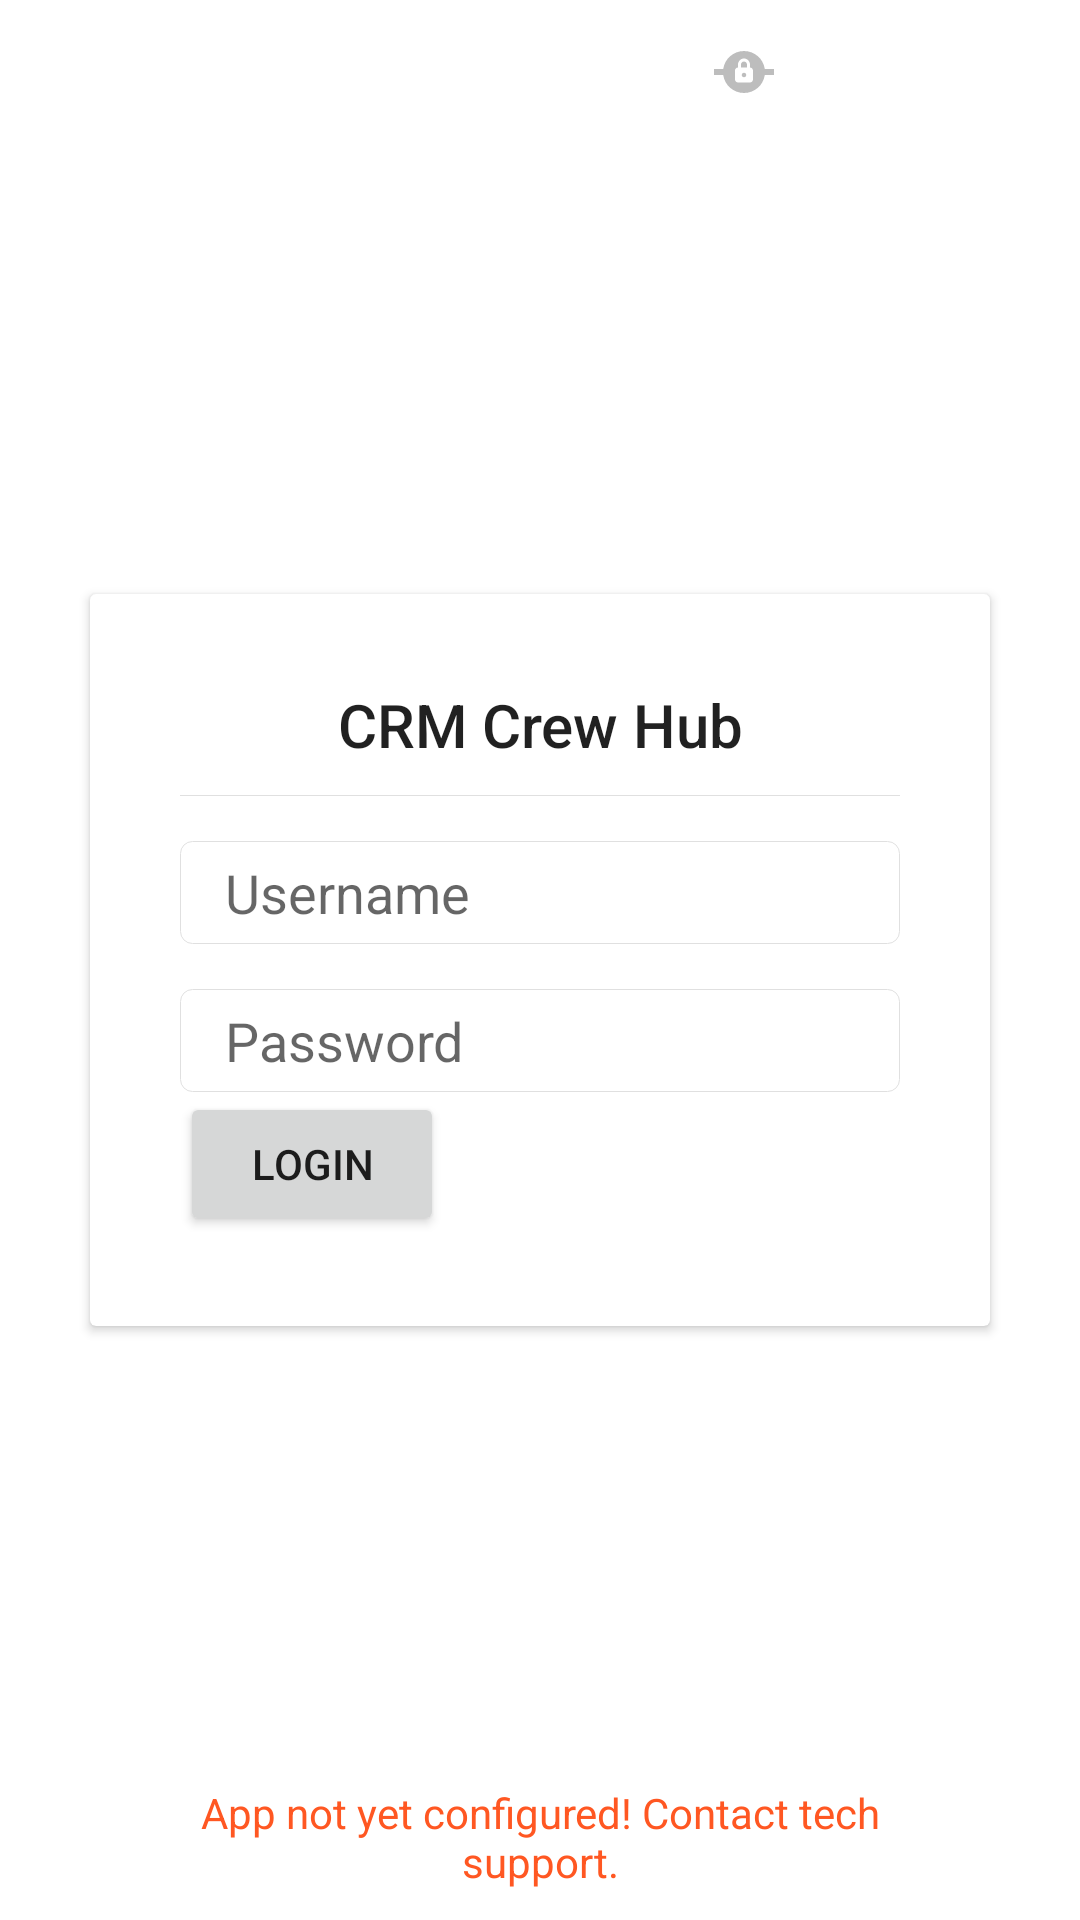

Locate icon controls on the screen. Image size 1080px x 1920px, boxes as {"x1": x1, "y1": y1, "x2": x2, "y2": y2}.
private connectivity: {"x1": 714, "y1": 51, "x2": 774, "y2": 93}
